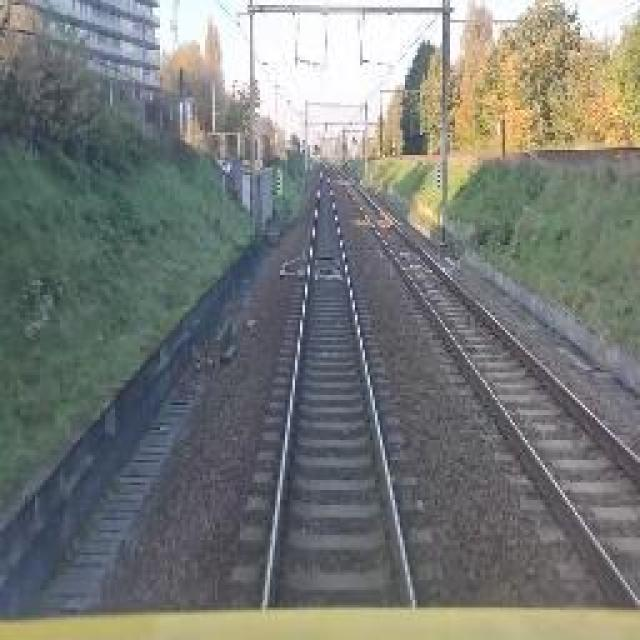rail: (216, 159, 438, 622)
